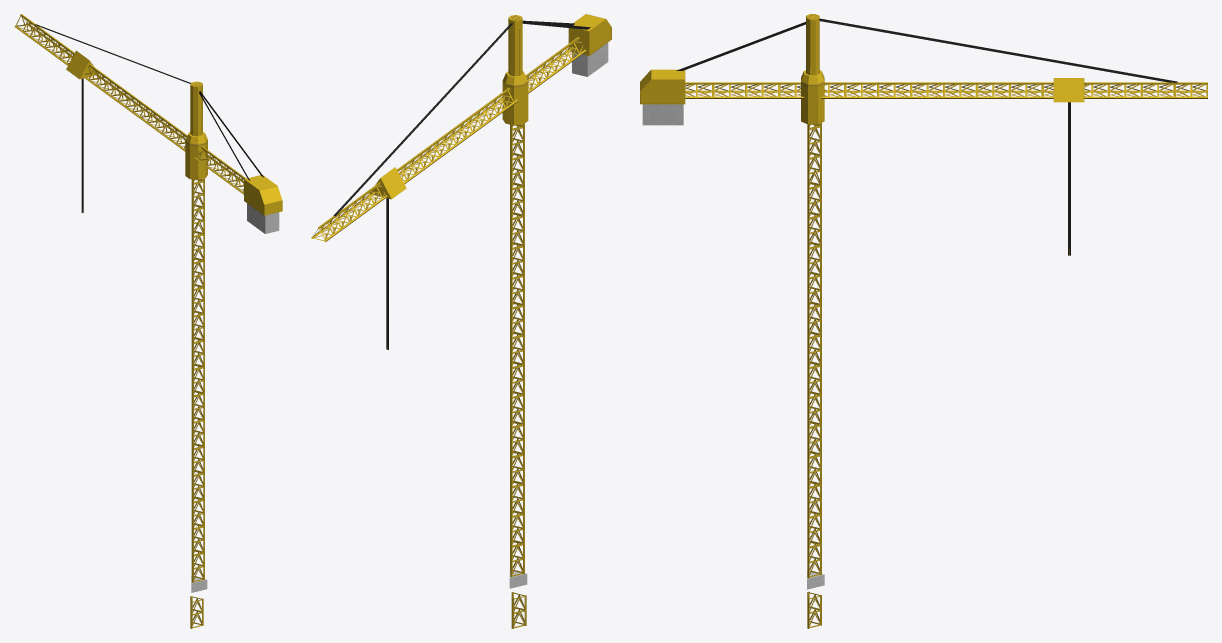
The model's file is Crane.fbx.
3 views of the same model, side by side, from view 1: azimuth 30°, elevation 25°; view 2: azimuth 150°, elevation 25°; view 3: azimuth 270°, elevation 25° (orthographic). The views are drawn at different scales.
Visible parts, largest first — view 1: CraneBody, CraneTop, CraneOperatorSeat, CounterweightHolder, Counterweight, CraneTrolley, Rope; view 2: CraneBody, CraneTop, CraneOperatorSeat, CounterweightHolder, Counterweight, Rope_1, CraneTrolley, Rope, CraneSegment; view 3: CraneTop, CraneBody, CraneOperatorSeat, CounterweightHolder, Rope_1, Counterweight, CraneTrolley.
Part boxes in pixels (bbox=[...]): CraneBody: bbox=[191, 178, 204, 582]; CraneTop: bbox=[14, 14, 246, 194]; CraneOperatorSeat: bbox=[185, 81, 207, 179]; CounterweightHolder: bbox=[244, 175, 282, 215]; Counterweight: bbox=[247, 203, 279, 233]; CraneTrolley: bbox=[66, 50, 99, 79]; Rope: bbox=[81, 78, 83, 212]; CraneBody: bbox=[510, 123, 524, 577]; CraneTop: bbox=[311, 37, 586, 242]; CraneOperatorSeat: bbox=[502, 15, 528, 125]; CounterweightHolder: bbox=[568, 14, 611, 55]; Counterweight: bbox=[572, 42, 608, 76]; Rope_1: bbox=[333, 23, 512, 217]; CraneTrolley: bbox=[370, 167, 406, 199]; Rope: bbox=[386, 198, 388, 349]; CraneSegment: bbox=[511, 592, 526, 628]; CraneTop: bbox=[685, 82, 1207, 98]; CraneBody: bbox=[807, 123, 821, 578]; CraneOperatorSeat: bbox=[801, 14, 824, 124]; CounterweightHolder: bbox=[640, 69, 685, 104]; Rope_1: bbox=[819, 18, 1177, 83]; Counterweight: bbox=[642, 104, 683, 125]; CraneTrolley: bbox=[1053, 78, 1084, 102].
Bounding box in the file's own units: 882 × 22638 × 19125.
2 materials, 2 textured.
